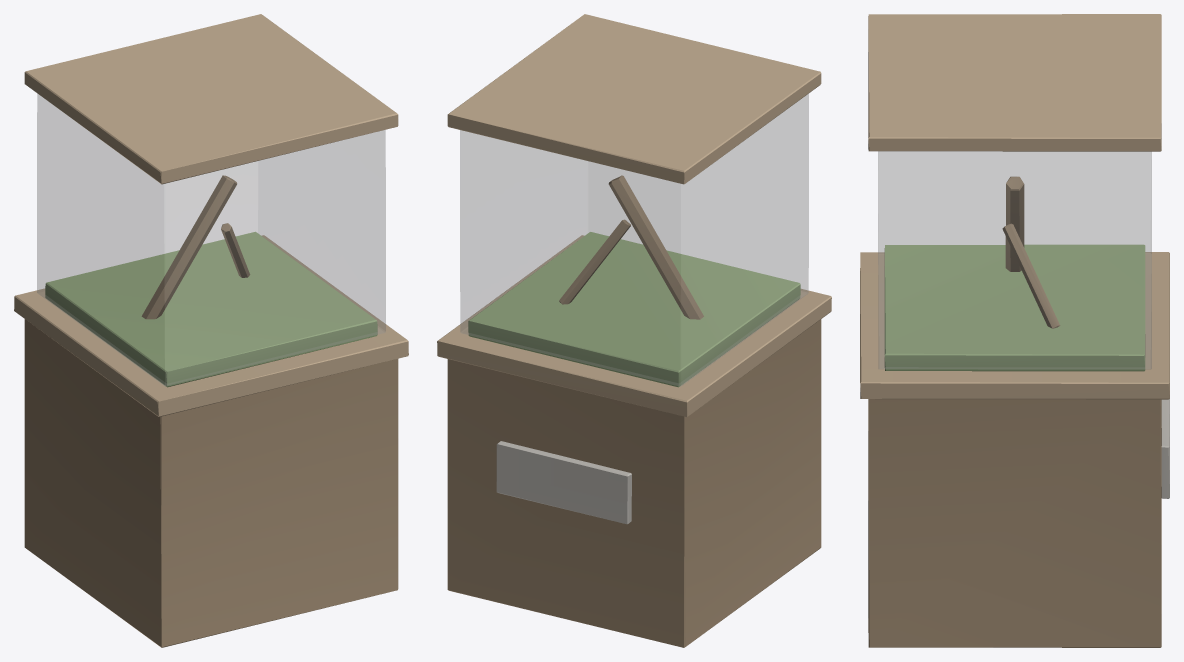
Rendered from museum_insect_case_low.glb.
3 renders of one model, left to right at view 1: azimuth 30°, elevation 25°; view 2: azimuth 150°, elevation 25°; view 3: azimuth 270°, elevation 25°, orthographic. The views are drawn at different scales.
Size of the model in its own units: 0.95 by 1.73 by 0.9473.
